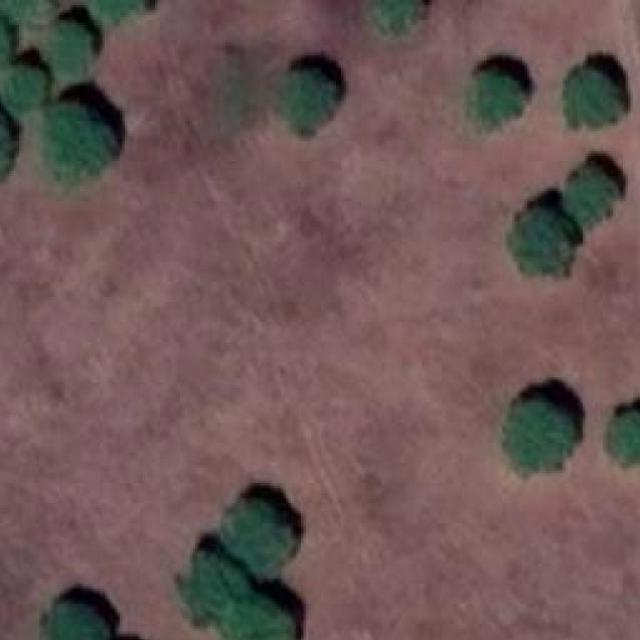Tree: (44, 101, 113, 181), (502, 395, 571, 469), (230, 500, 286, 579), (180, 553, 241, 622), (564, 68, 623, 134), (519, 208, 570, 277), (569, 161, 618, 219), (228, 595, 291, 640), (49, 23, 100, 77), (293, 70, 341, 126), (472, 70, 517, 129), (42, 598, 105, 640), (4, 68, 52, 112), (608, 410, 640, 464), (378, 0, 427, 30), (0, 106, 19, 181), (98, 0, 153, 22), (1, 0, 56, 18)
